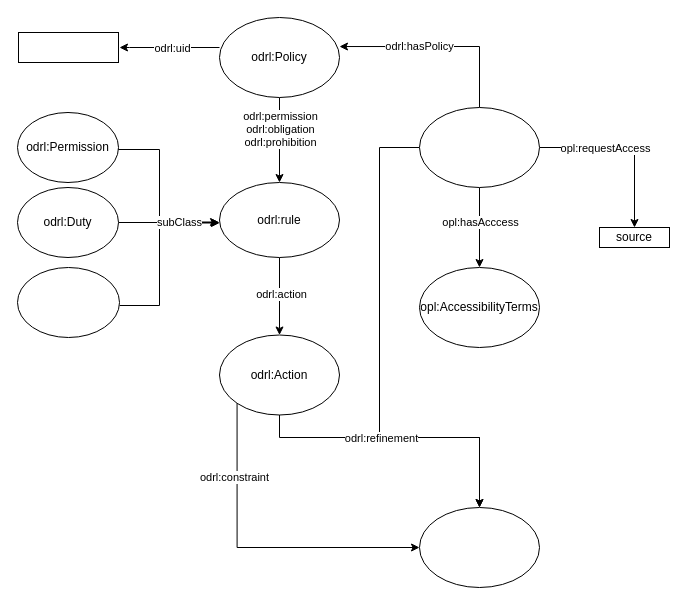
Image size: 687x605. Some labels were removed from this diagram. The shapes that lost their labels are listed below. From the top down, each one's box as (x1, y1, x2, y2) in pixels, then its label:
(18, 32, 118, 62): unique identifier
(418, 106, 540, 188): dcat:Dataset odrl:Asset
(16, 266, 120, 338): odrl:Prohibition
(418, 506, 540, 588): odrl:Costraint
